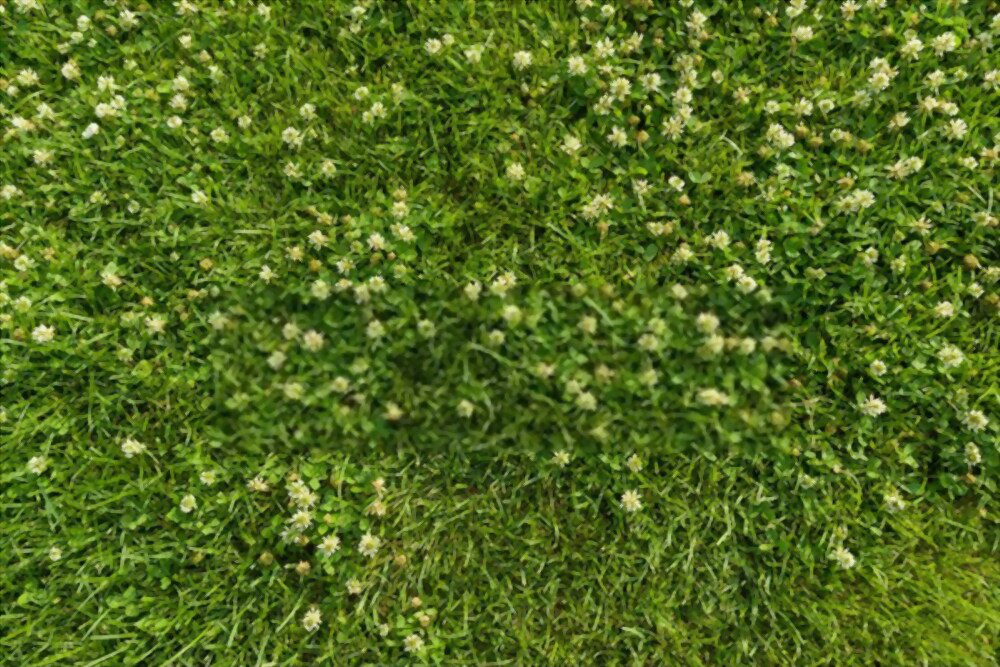clover: (2, 1, 998, 568)
